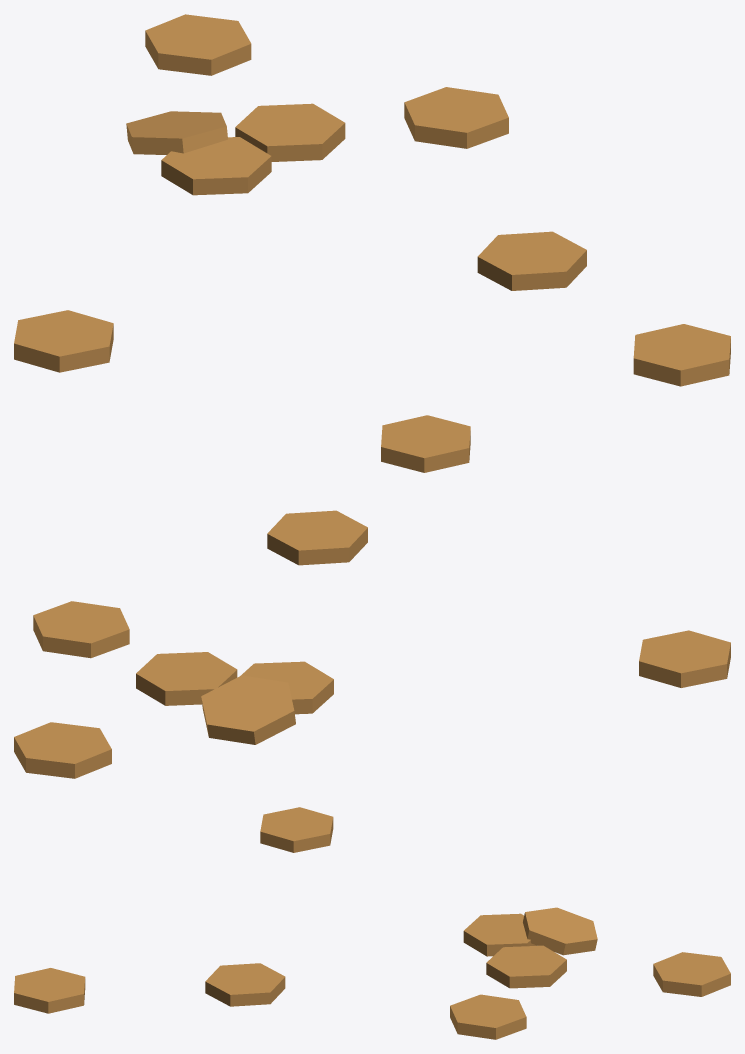
The model's file is SM_Item_Coins_03.glb.
The picture shows the model from 3 angles, top to bottom: view 1: azimuth 30°, elevation 25°; view 2: azimuth 150°, elevation 25°; view 3: azimuth 270°, elevation 25°; orthographic projection. The views are drawn at different scales.
Visible parts, largest first — view 1: SM_Item_Coins_03; view 2: SM_Item_Coins_03; view 3: SM_Item_Coins_03.
Boxes of the visible parts, x1=… form: SM_Item_Coins_03: x1=14, y1=14, x2=730, y2=386; SM_Item_Coins_03: x1=14, y1=415, x2=730, y2=778; SM_Item_Coins_03: x1=14, y1=807, x2=730, y2=1039.
Bounding box in the file's own units: 0.00548 × 0.000289 × 0.00752.
1 material, 1 textured.
